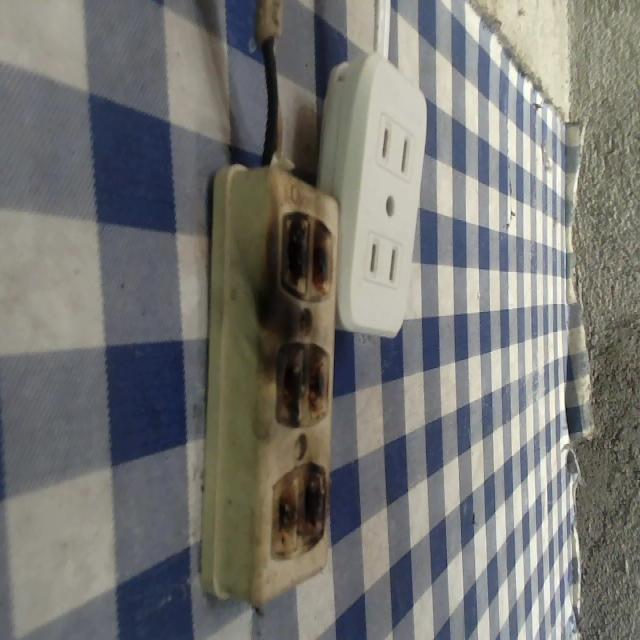-: (269, 459, 326, 561), (274, 338, 333, 430), (279, 203, 334, 301)
